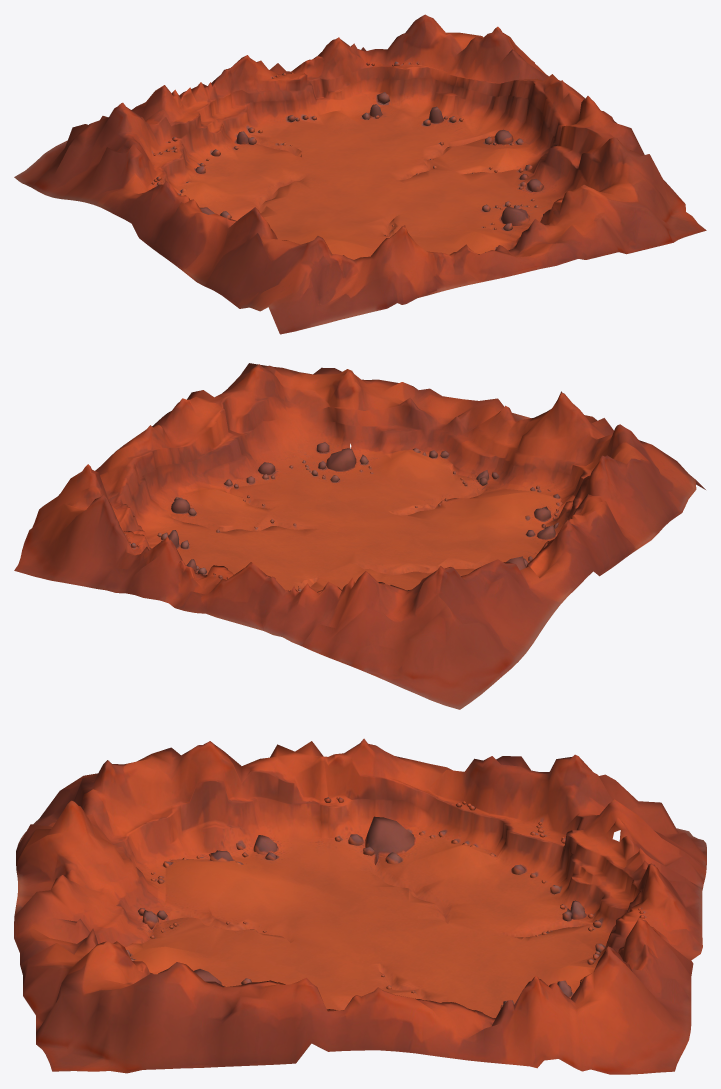
Rendered from world_1.glb.
3 renders of one model, top to bottom at view 1: azimuth 30°, elevation 25°; view 2: azimuth 150°, elevation 25°; view 3: azimuth 270°, elevation 25°, orthographic. The views are drawn at different scales.
Visible parts, largest first — view 1: tripo_node_39d187af-28e9-4bb6-8096-5efc77e138d1; view 2: tripo_node_39d187af-28e9-4bb6-8096-5efc77e138d1; view 3: tripo_node_39d187af-28e9-4bb6-8096-5efc77e138d1.
Part boxes in pixels (left/top/right/bottom): tripo_node_39d187af-28e9-4bb6-8096-5efc77e138d1: left=14, top=14, right=706, bottom=334; tripo_node_39d187af-28e9-4bb6-8096-5efc77e138d1: left=14, top=363, right=705, bottom=709; tripo_node_39d187af-28e9-4bb6-8096-5efc77e138d1: left=14, top=738, right=706, bottom=1074.
Bounding box in the file's own units: 0.9995 × 0.2075 × 0.9995.
1 material, 1 textured.
